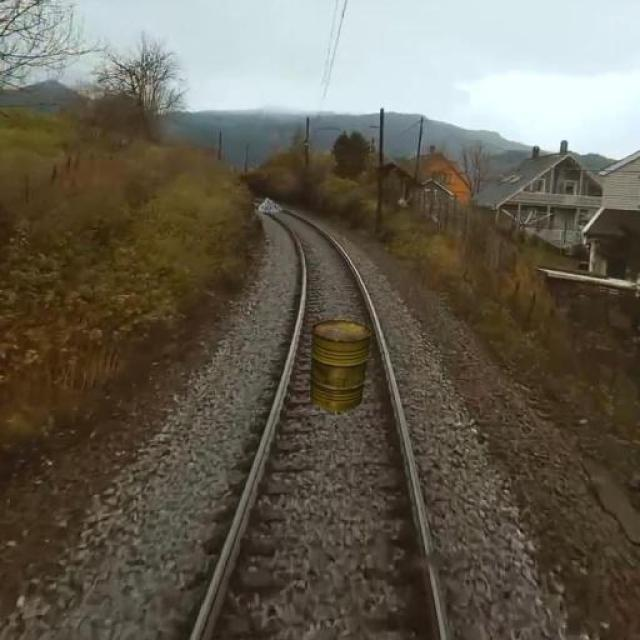Other_objects: (301, 311, 384, 416)
Stone: (255, 193, 289, 217)
